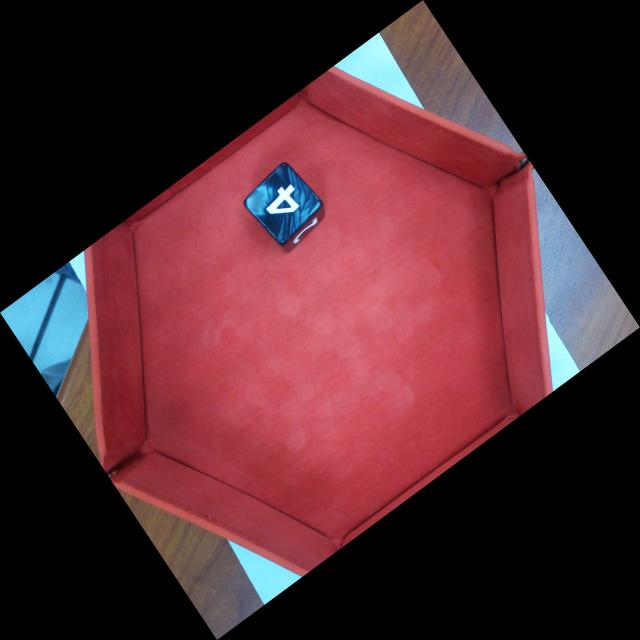dice: (245, 161, 324, 241)
